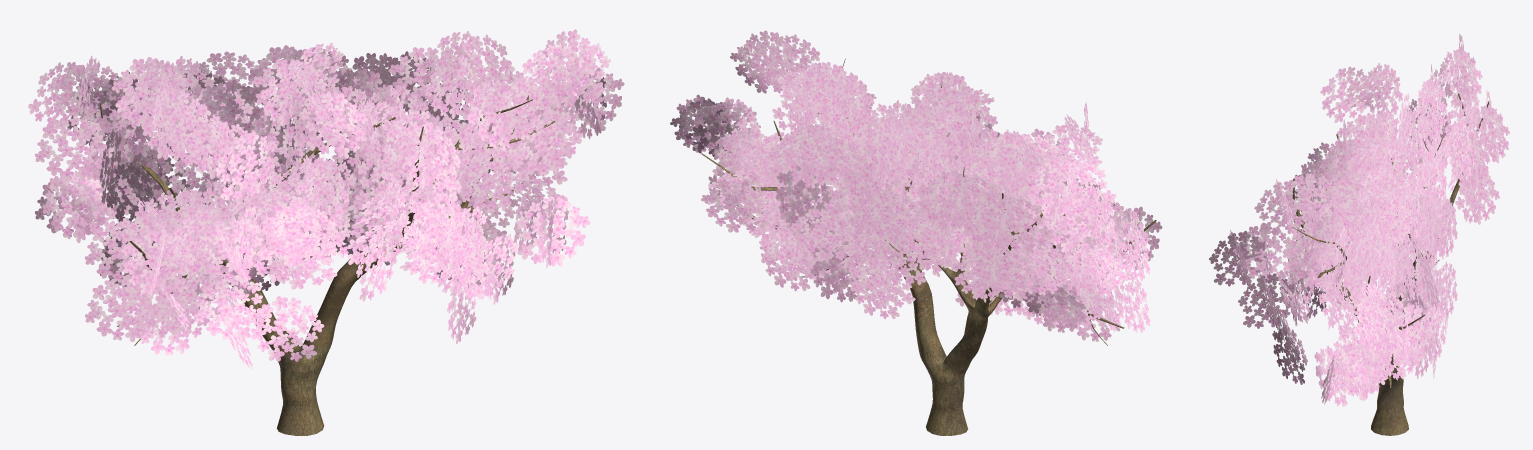
File: tree8.FBX
3 views of the same model, side by side, from view 1: azimuth 30°, elevation 25°; view 2: azimuth 150°, elevation 25°; view 3: azimuth 270°, elevation 25° (orthographic). The views are drawn at different scales.
Visible parts, largest first — view 1: SakuraFlowers, SakuraTrunk; view 2: SakuraFlowers, SakuraTrunk; view 3: SakuraFlowers, SakuraTrunk.
Part boxes in pixels (<box>): SakuraFlowers: <box>28,29,624,369</box>; SakuraTrunk: <box>100,75,555,435</box>; SakuraFlowers: <box>670,30,1162,341</box>; SakuraTrunk: <box>701,58,1156,435</box>; SakuraFlowers: <box>1209,33,1509,406</box>; SakuraTrunk: <box>1292,93,1489,435</box>.
Bounding box in the file's own units: 500 × 294 × 335.
